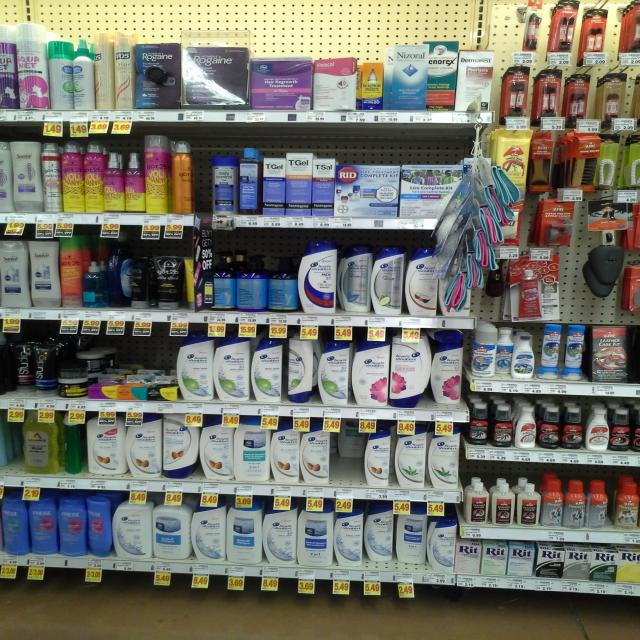unorganised: (385, 38, 457, 111), (363, 502, 427, 570), (431, 332, 466, 410), (14, 335, 55, 398), (339, 237, 372, 315), (285, 332, 317, 406), (101, 231, 130, 307), (171, 140, 196, 216), (92, 28, 114, 110), (47, 39, 72, 111), (86, 495, 113, 558), (60, 413, 86, 473), (72, 38, 93, 109), (336, 422, 364, 469), (585, 480, 607, 528), (497, 327, 513, 379)
